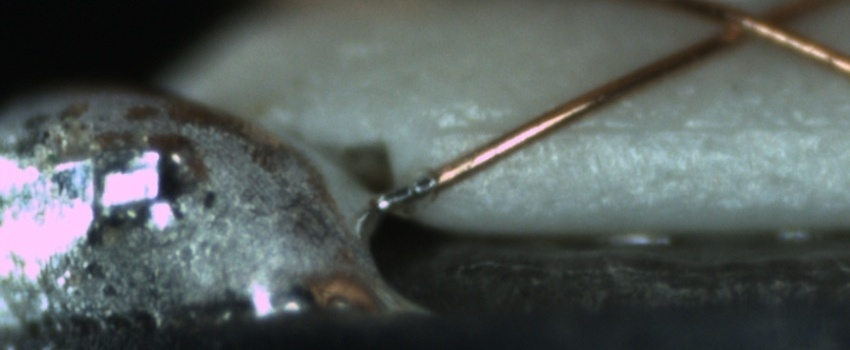CL: (696, 2, 820, 55)
DL: (436, 99, 849, 157)
TS: (377, 172, 437, 211)
